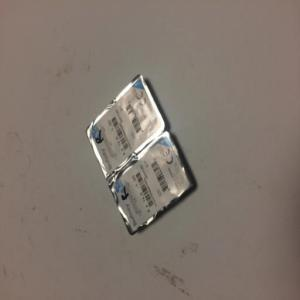Trash: (87, 74, 198, 236)
